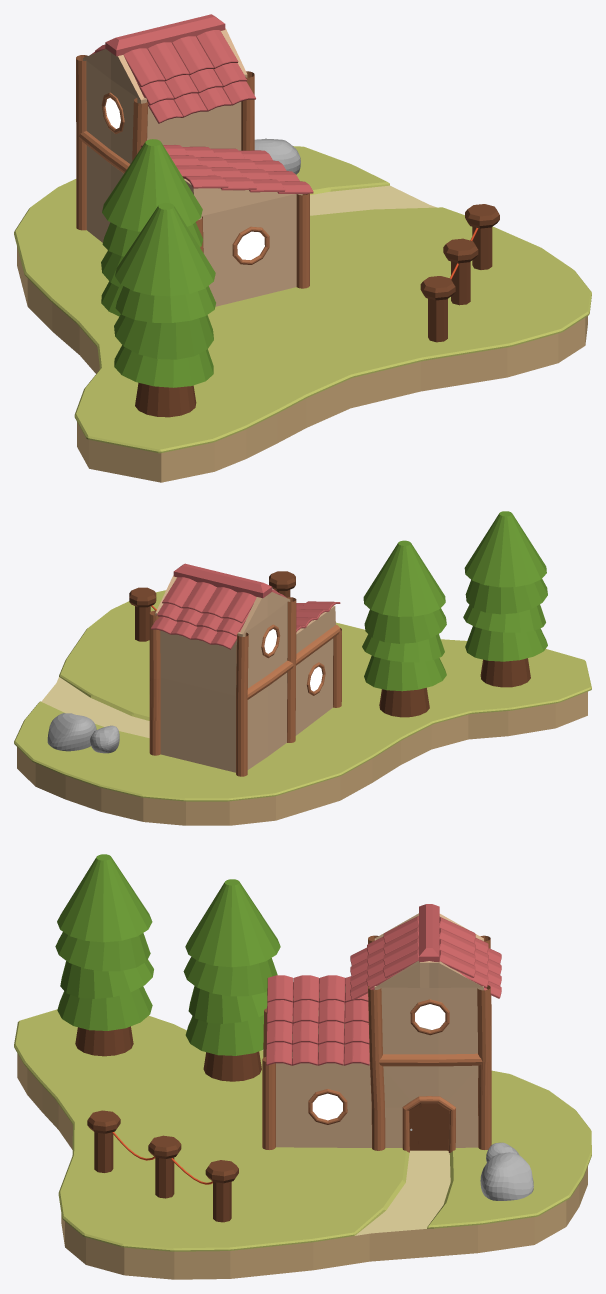
The picture shows the model from 3 angles, top to bottom: view 1: azimuth 30°, elevation 25°; view 2: azimuth 150°, elevation 25°; view 3: azimuth 270°, elevation 25°; orthographic projection. The views are drawn at different scales.
Parts seen in each view (by area): view 1: 贝塞尔曲线.003, 平面.001, 贝塞尔曲线.002, 柱体, 立方体.001, 柱体.016, 平面.007, 立方体, 平面.003, 柱体.005, 柱体.007, 柱体.008 (+4 smaller); view 2: 贝塞尔曲线.003, 平面.001, 贝塞尔曲线.002, 柱体.016, 柱体, 平面.007, 立方体.002, 球体.002, 平面.003, 平面.008, 柱体.008, 立方体 (+4 smaller); view 3: 贝塞尔曲线.003, 平面.001, 贝塞尔曲线.002, 柱体, 柱体.016, 立方体, 平面.007, 立方体.001, 立方体.002, 球体.002, 平面.002, 柱体.005 (+7 smaller).
Boxes of the visible parts, left/top/right/bottom form: 贝塞尔曲线.003: left=14, top=146, right=591, bottom=453; 平面.001: left=83, top=28, right=302, bottom=306; 贝塞尔曲线.002: left=17, top=247, right=587, bottom=482; 柱体: left=114, top=202, right=215, bottom=417; 立方体.001: left=123, top=30, right=255, bottom=123; 柱体.016: left=101, top=139, right=203, bottom=316; 平面.007: left=76, top=55, right=309, bottom=288; 立方体: left=141, top=145, right=313, bottom=193; 平面.003: left=105, top=14, right=225, bottom=56; 柱体.005: left=420, top=276, right=455, bottom=342; 柱体.007: left=443, top=238, right=478, bottom=305; 柱体.008: left=465, top=204, right=499, bottom=269; 贝塞尔曲线.003: left=14, top=590, right=591, bottom=801; 平面.001: left=155, top=575, right=335, bottom=772; 贝塞尔曲线.002: left=17, top=691, right=587, bottom=825; 柱体.016: left=362, top=540, right=446, bottom=717; 柱体: left=463, top=511, right=547, bottom=687; 平面.007: left=149, top=597, right=341, bottom=776; 立方体.002: left=150, top=577, right=256, bottom=649; 球体.002: left=47, top=713, right=96, bottom=751; 平面.003: left=173, top=563, right=272, bottom=598; 平面.008: left=247, top=624, right=340, bottom=699; 柱体.008: left=129, top=587, right=156, bottom=641; 立方体: left=296, top=601, right=340, bottom=632; 贝塞尔曲线.003: left=14, top=1009, right=591, bottom=1251; 平面.001: left=276, top=913, right=483, bottom=1147; 贝塞尔曲线.002: left=17, top=1053, right=587, bottom=1279; 柱体: left=55, top=854, right=153, bottom=1056; 柱体.016: left=183, top=879, right=280, bottom=1081; 立方体: left=266, top=975, right=369, bottom=1065; 平面.007: left=262, top=935, right=491, bottom=1150; 立方体.001: left=350, top=916, right=418, bottom=1000; 立方体.002: left=439, top=917, right=501, bottom=998; 球体.002: left=480, top=1152, right=533, bottom=1200; 平面.002: left=409, top=1103, right=449, bottom=1150; 柱体.005: left=87, top=1110, right=120, bottom=1172.
Size of the model in its own units: 11.17 by 5.5 by 11.04.
